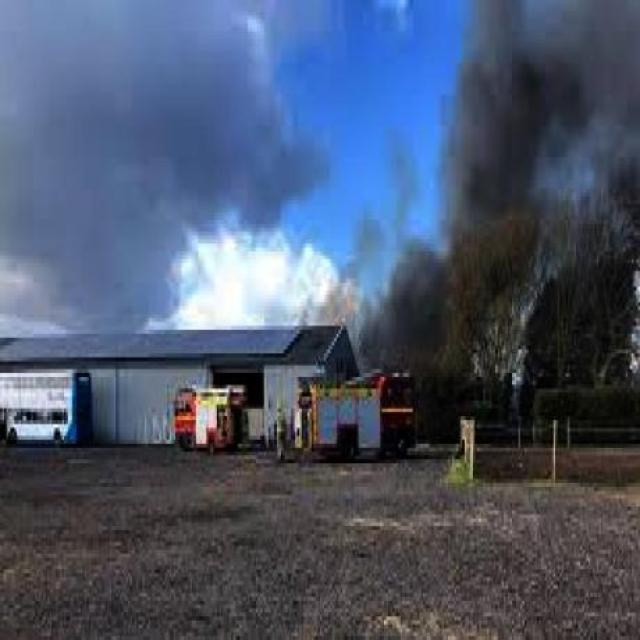Smoke: (399, 1, 640, 369), (5, 18, 208, 326)
